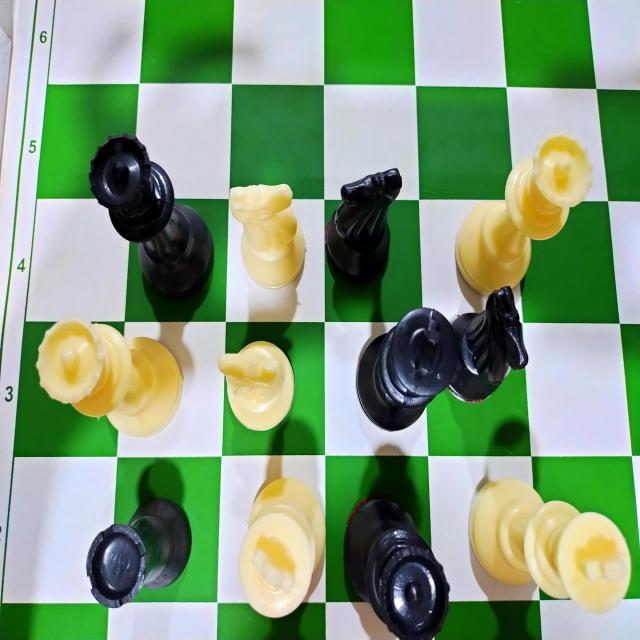black-king: (352, 304, 458, 436)
black-knight: (451, 288, 533, 406), (323, 164, 402, 284)
black-queen: (78, 132, 215, 302), (332, 491, 454, 635)
black-rook: (85, 500, 194, 611)
white-king: (466, 476, 635, 626), (225, 468, 329, 620)
white-knight: (228, 182, 309, 292), (214, 332, 298, 433)
white-queen: (441, 132, 598, 288), (32, 320, 186, 434)
